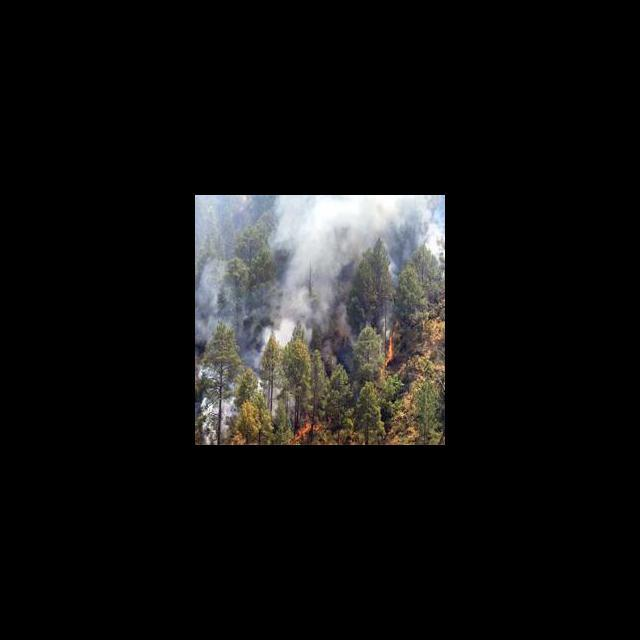Fire: (288, 417, 329, 444), (378, 338, 402, 378)
Smoke: (196, 195, 444, 331), (196, 334, 342, 416), (196, 415, 239, 444)
